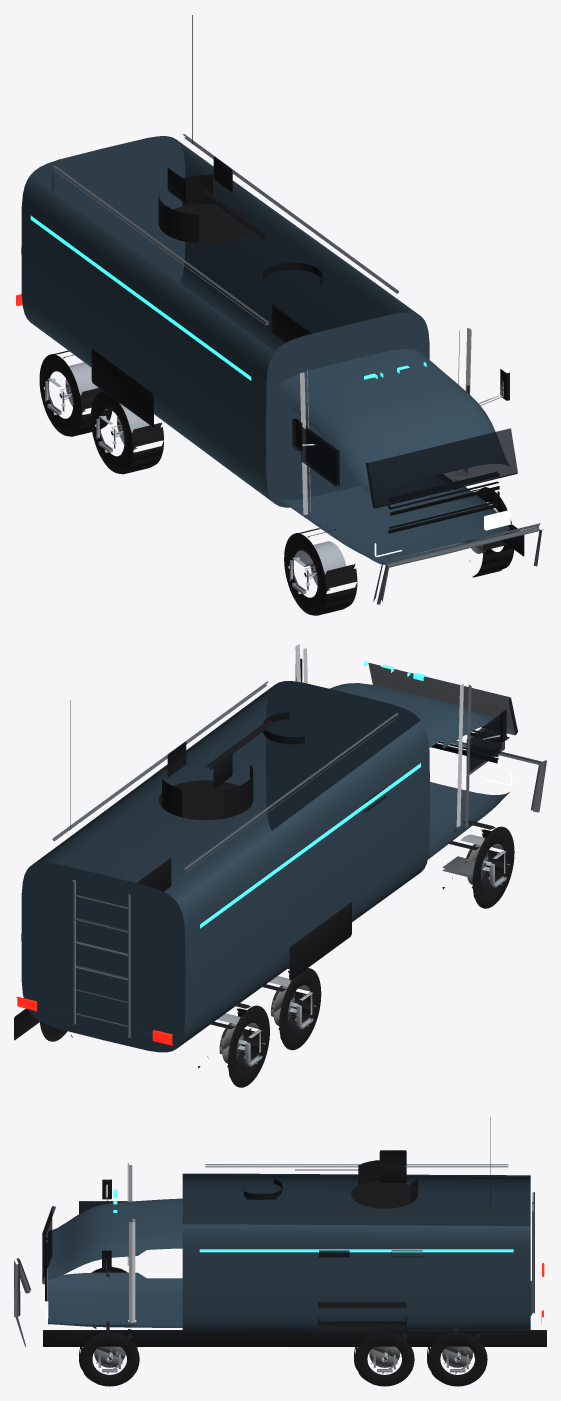
The model's file is tech-transport.glb.
The picture shows the model from 3 angles, top to bottom: view 1: azimuth 30°, elevation 25°; view 2: azimuth 150°, elevation 25°; view 3: azimuth 270°, elevation 25°; orthographic projection. The views are drawn at different scales.
Parts seen in each view (by area): view 1: Body, WheelFL, WheelML, WheelRL, WheelFR; view 2: Body, WheelRL, WheelFL, WheelML; view 3: Body, WheelFR, WheelRR, WheelMR.
Part boxes in pixels (box(x1,y1,x2,y2)): Body: box(16, 15, 543, 604); WheelFL: box(284, 525, 357, 615); WheelML: box(90, 391, 163, 474); WheelRL: box(39, 350, 112, 436); WheelFR: box(466, 487, 514, 577); Body: box(14, 644, 546, 1052); WheelRL: box(198, 1002, 269, 1087); WheelFL: box(442, 820, 514, 908); WheelML: box(249, 964, 321, 1050); Body: box(14, 1117, 546, 1355); WheelFR: box(79, 1321, 139, 1386); WheelRR: box(427, 1326, 487, 1386); WheelMR: box(354, 1332, 414, 1386).
Bounding box in the file's own units: 3.09 × 5.08 × 9.5.
